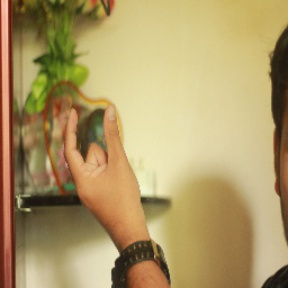U: (64, 100, 150, 235)
